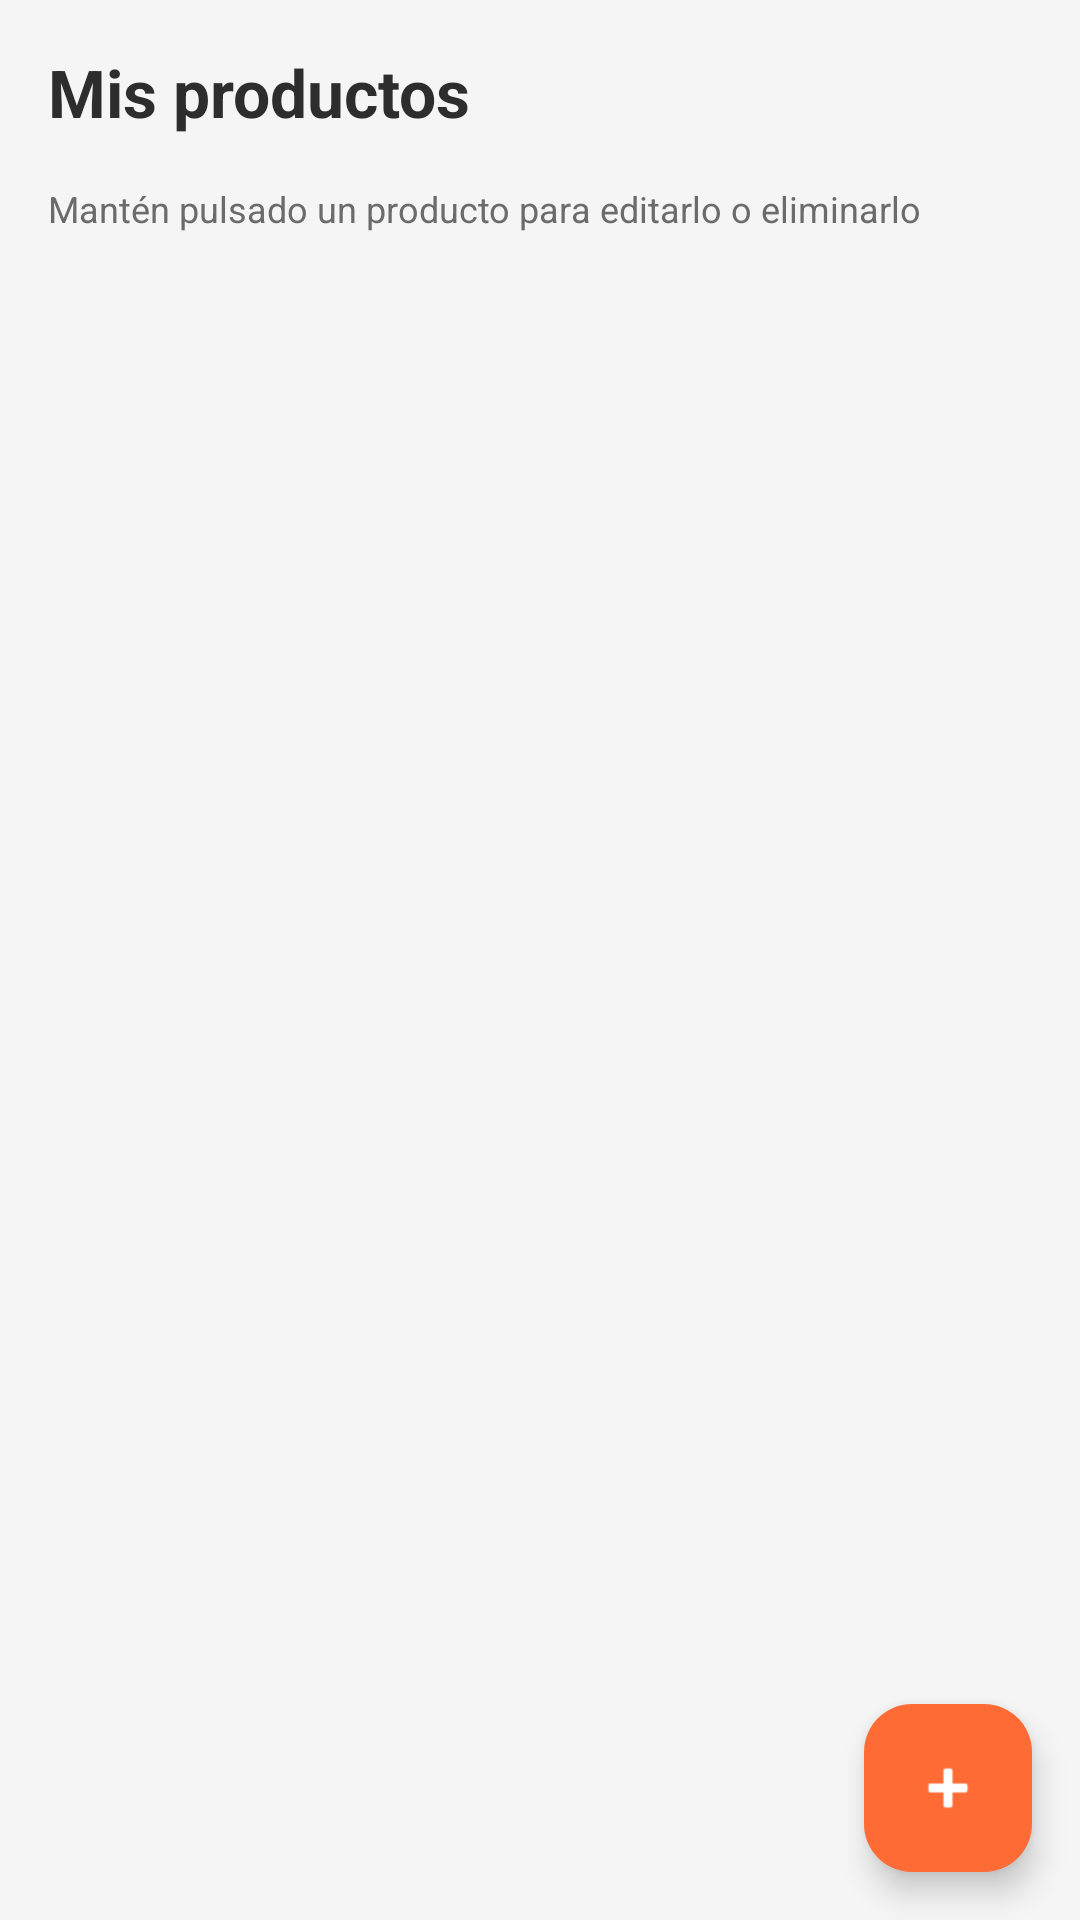

Where icons sit on this 1080×1920 app screen, as (x1, y1, x2, y2):
Agregar producto: (864, 1704, 1032, 1872)
